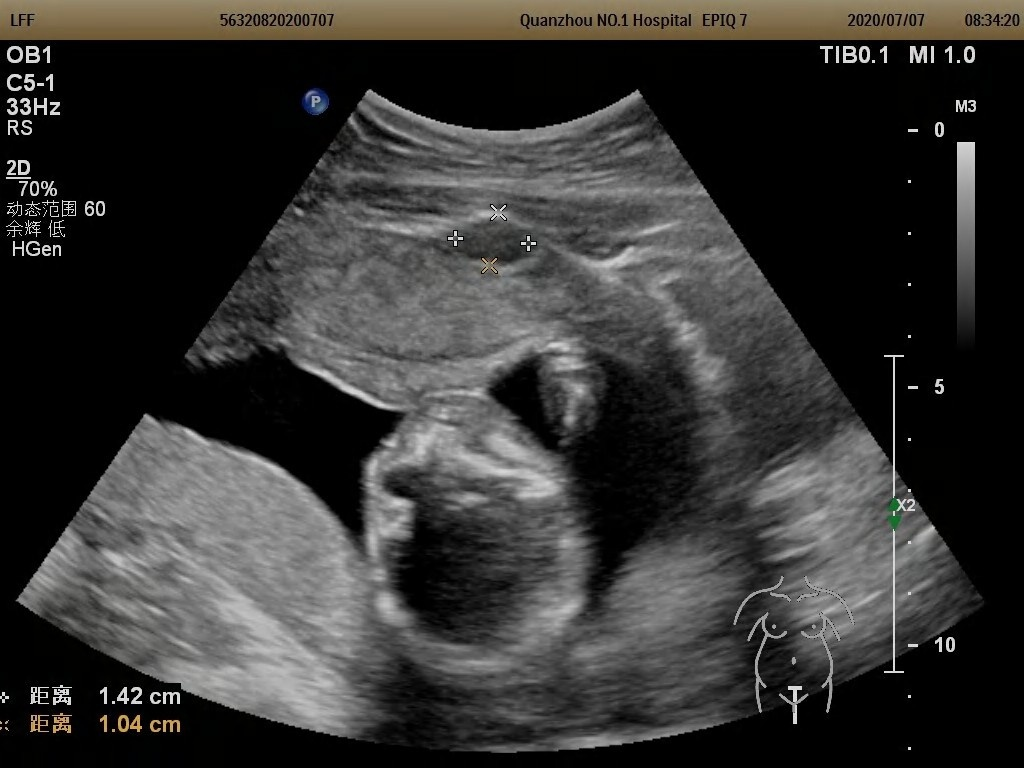肌瘤: (457, 219, 534, 263)
